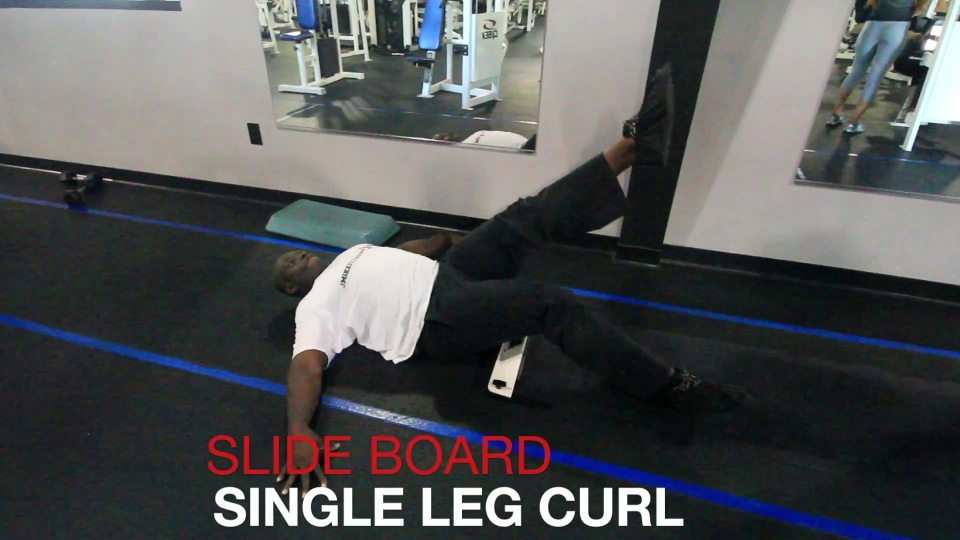person: (269, 115, 661, 465)
